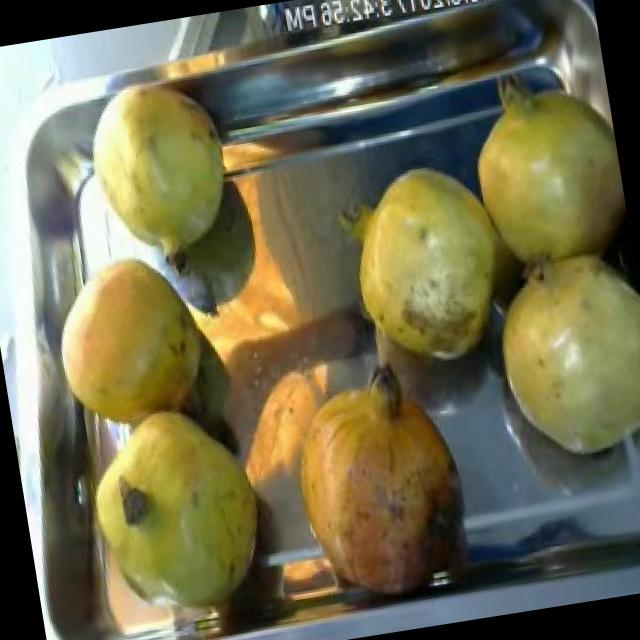fruit: (268, 349, 491, 621), (62, 379, 287, 640), (314, 137, 528, 396), (59, 50, 264, 298), (30, 226, 232, 456), (445, 62, 634, 295), (473, 228, 640, 483)
